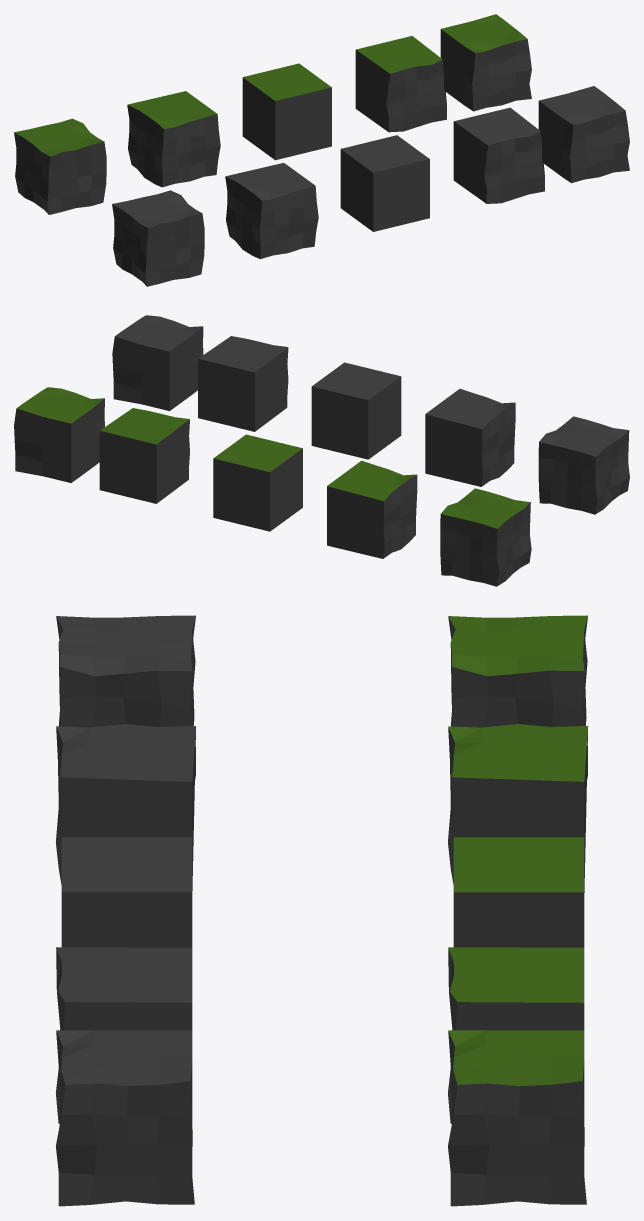
Rendered from cliffCubesTiles.glb.
The picture shows the model from 3 angles, top to bottom: view 1: azimuth 30°, elevation 25°; view 2: azimuth 150°, elevation 25°; view 3: azimuth 270°, elevation 25°; orthographic projection. The views are drawn at different scales.
Visible parts, largest first — view 1: Cube.002-col, Cube.007-col, Cube.006-col, Cube.001-col, Cube.005-col, Cube-col, Cube.009-col, Cube.004-col, Cube.008-col, Cube.003-col; view 2: Cube.004-col, Cube.009-col, Cube-col, Cube.001-col, Cube.006-col, Cube.007-col, Cube.005-col, Cube.002-col, Cube.003-col, Cube.008-col; view 3: Cube.003-col, Cube.008-col, Cube.006-col, Cube.001-col, Cube.009-col, Cube.004-col, Cube-col, Cube.005-col, Cube.002-col, Cube.007-col.
Part boxes in pixels (x1,y1,x2,y2): Cube.002-col: (453,107,544,203); Cube.007-col: (355,36,446,132); Cube.006-col: (127,91,220,187); Cube.001-col: (225,163,318,259); Cube.005-col: (242,63,331,160); Cube-col: (340,135,429,231); Cube.009-col: (14,118,106,214); Cube.004-col: (112,190,204,286); Cube.008-col: (440,14,531,111); Cube.003-col: (538,86,629,183); Cube.004-col: (538,416,629,514); Cube.009-col: (440,488,531,586); Cube-col: (311,362,401,459); Cube.001-col: (425,388,515,486); Cube.006-col: (327,460,417,558); Cube.007-col: (99,408,189,503); Cube.005-col: (213,434,302,531); Cube.002-col: (198,336,288,431); Cube.003-col: (112,315,203,410); Cube.008-col: (14,387,104,482); Cube.003-col: (56,1030,194,1206); Cube.008-col: (448,1030,586,1206); Cube.006-col: (448,724,588,892); Cube.001-col: (56,724,195,890); Cube.009-col: (448,615,587,779); Cube.004-col: (56,615,195,779); Cube-col: (61,837,192,947); Cube.005-col: (453,837,584,947); Cube.002-col: (56,947,192,1123); Cube.007-col: (448,947,584,1123).
Size of the model in its own units: 17.12 by 2.11 by 8.15.
Materials: 1 (1 with a texture image).
